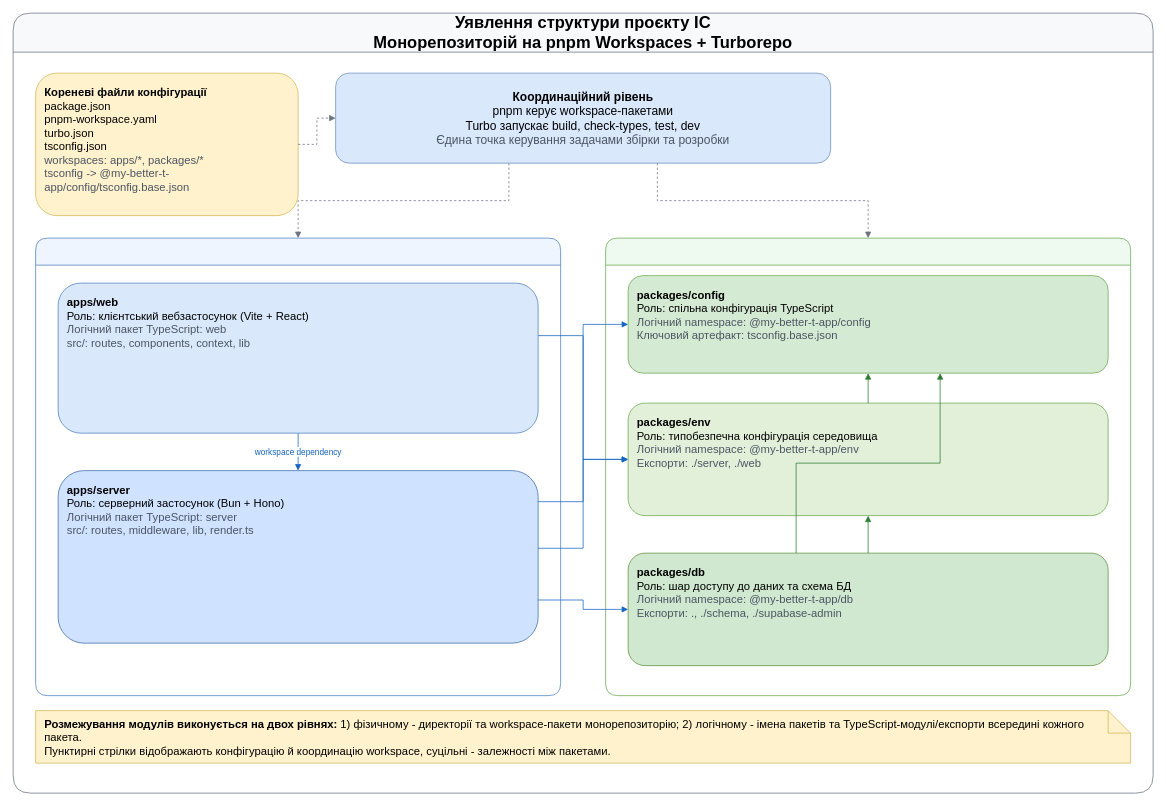
This 1166x806 diagram has some shape labels left out. The shapes that lost their labels are listed below. From the top down, each one's box as (x1, y1, x2, y2) in pixels, then its label:
(35, 237, 561, 696): Фізичний рівень: apps/ (вебзастосунки)
(605, 237, 1131, 696): Фізичний рівень: packages/ (спільні бібліотеки)
